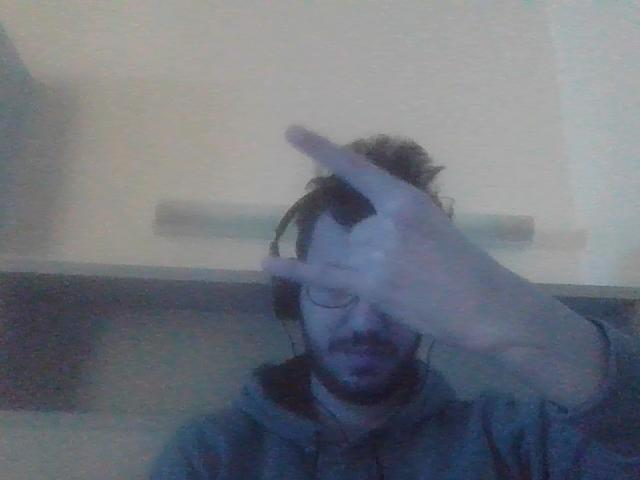iloveyou: (277, 125, 526, 365)
